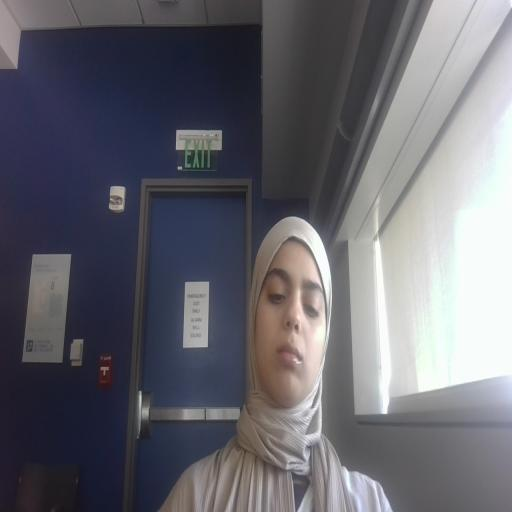lookingdownatphone: (246, 247, 362, 406)
